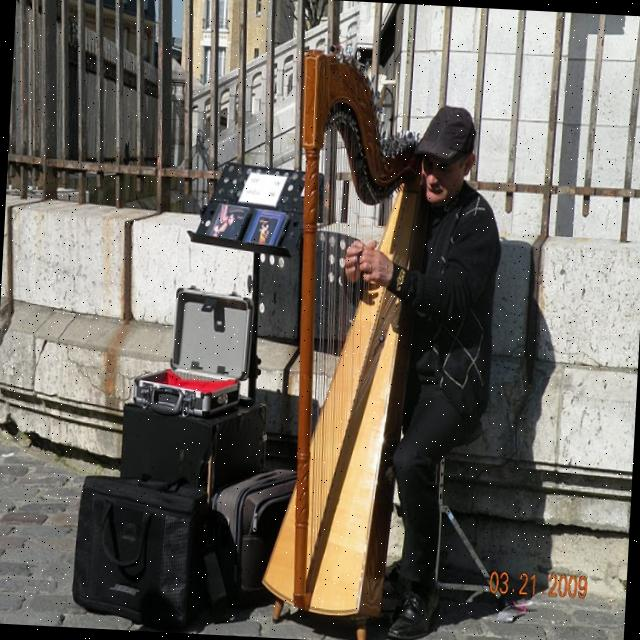harp: (261, 44, 433, 639)
